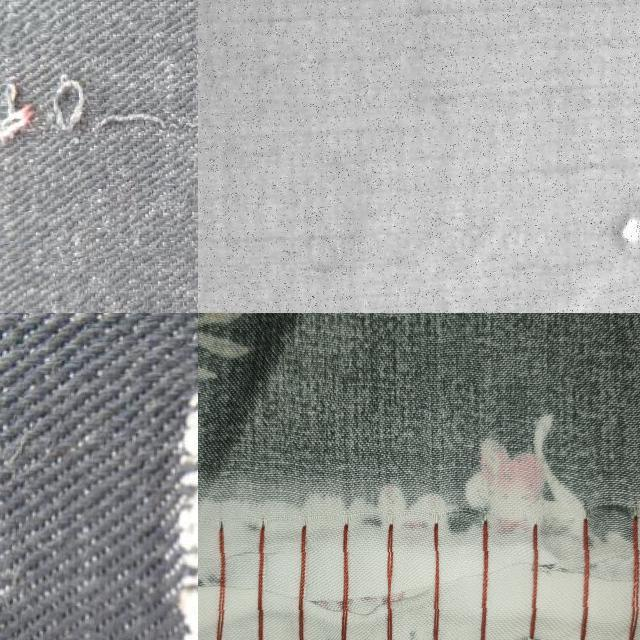Thread_out: (198, 502, 640, 640)
other: (545, 165, 640, 293)
stains: (0, 313, 198, 640), (0, 20, 198, 257)
